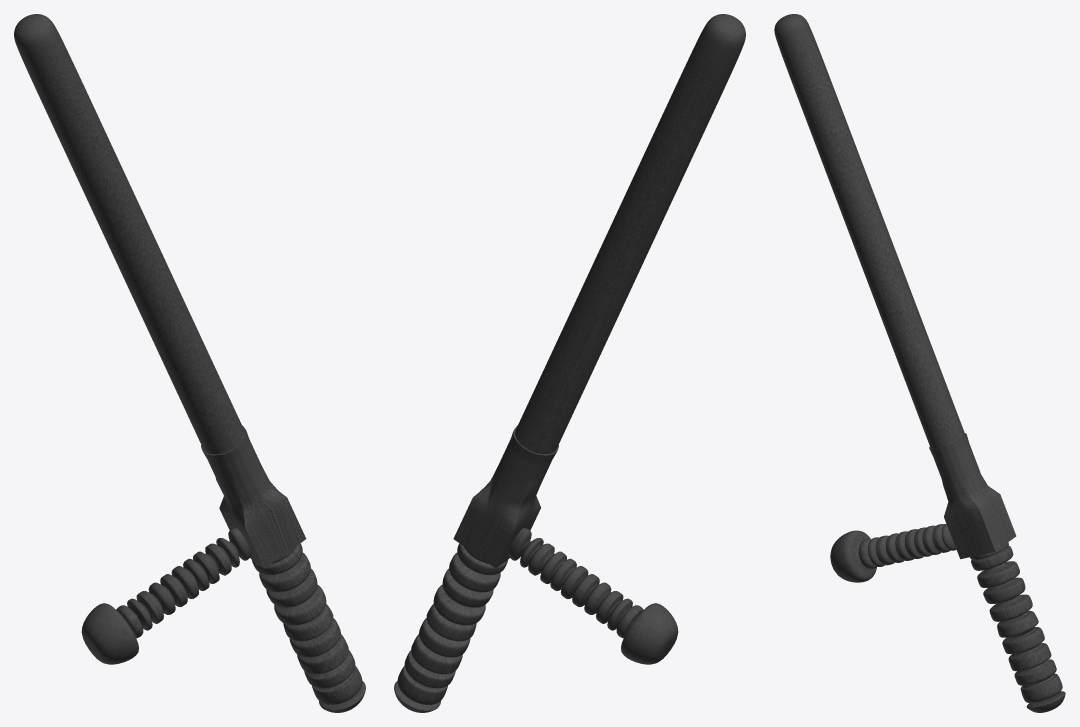
The model's file is baton.gltf.
3 views of the same model, side by side, from view 1: azimuth 30°, elevation 25°; view 2: azimuth 150°, elevation 25°; view 3: azimuth 330°, elevation 25° (orthographic). The views are drawn at different scales.
Parts seen in each view (by area): view 1: Baton - full finish; view 2: Baton - full finish; view 3: Baton - full finish.
Boxes of the visible parts, left/top/right/bottom form: Baton - full finish: left=14, top=14, right=365, bottom=712; Baton - full finish: left=394, top=14, right=745, bottom=712; Baton - full finish: left=774, top=14, right=1065, bottom=712.
Bounding box in the file's own units: 45.68 × 96.86 × 7.24.
Materials: 1 (1 with a texture image).
